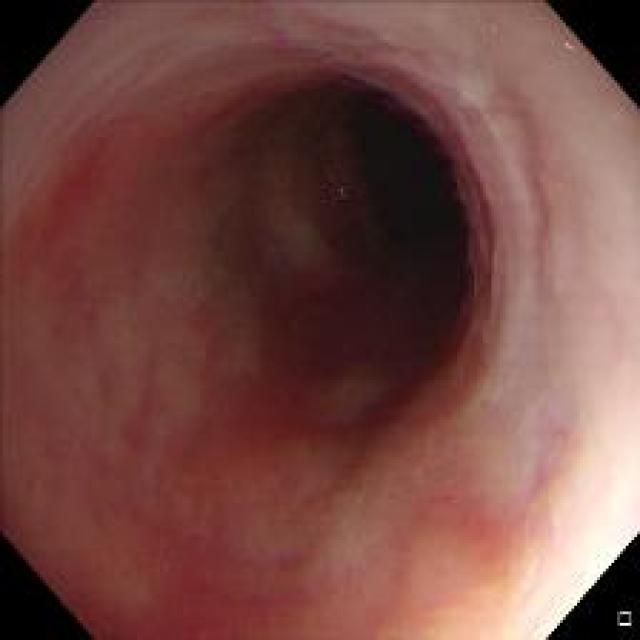bubbles: (328, 168, 351, 198)
color misalignment: (334, 66, 450, 130), (430, 128, 485, 211), (459, 209, 496, 326), (328, 166, 356, 204)
contrast: (175, 54, 515, 460)
saturation: (519, 449, 635, 632)
